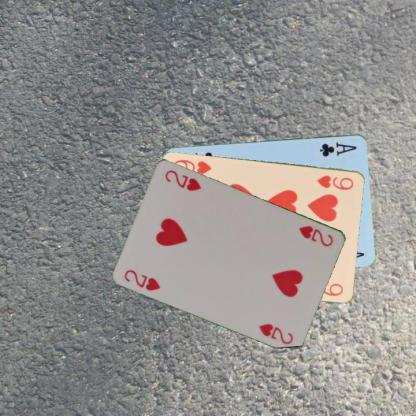2h: (122, 267, 162, 292), (297, 222, 335, 248)
9h: (314, 173, 355, 191)
Ac: (317, 139, 358, 158)
